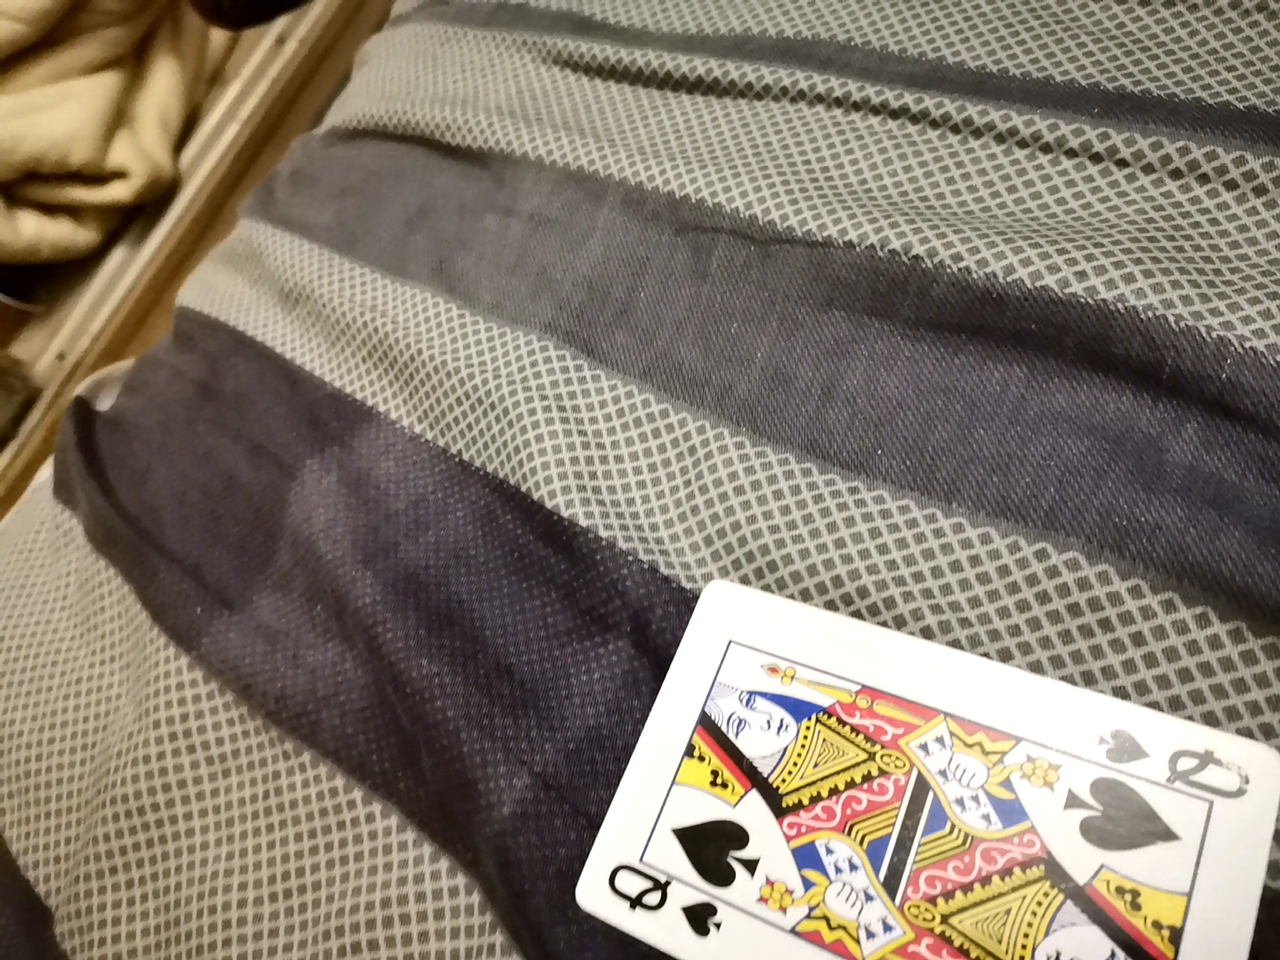ht q: (558, 577, 1270, 954)
